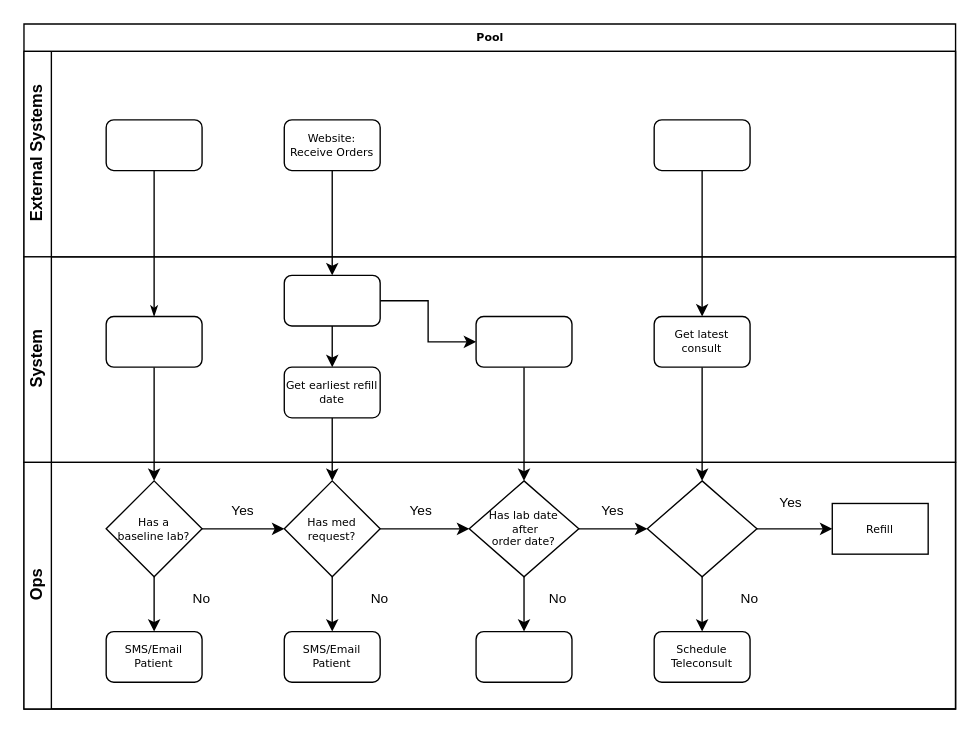
This 980x733 diagram has some shape labels left out. Each missing label, with the centre of its shape:
Airtable Labs: Receive lab results: the point at 153,145
Airtable: Receive Consult Logs: the point at 701,145
Get latest lab result: the point at 153,341
Get medicines per order: the point at 331,300
Get order date: the point at 523,341
Has consult for lab interpretation?: the point at 701,528
Schedule Lab: the point at 523,656
